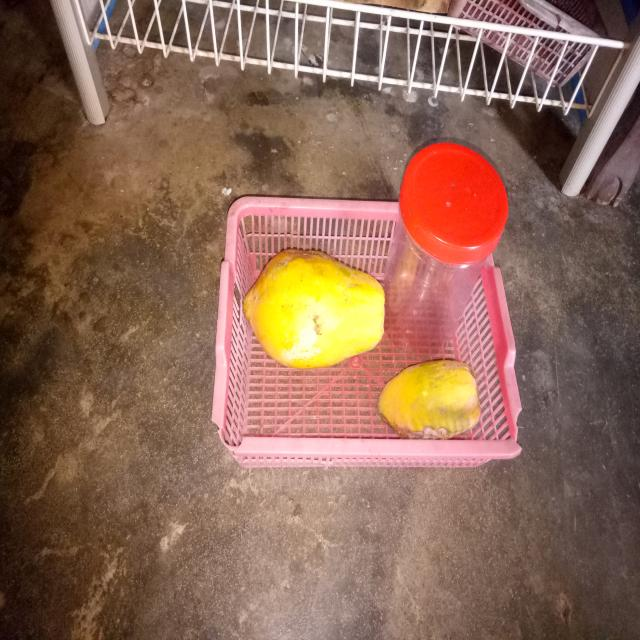Pepaya rippen: (245, 245, 391, 382), (372, 357, 478, 433)
